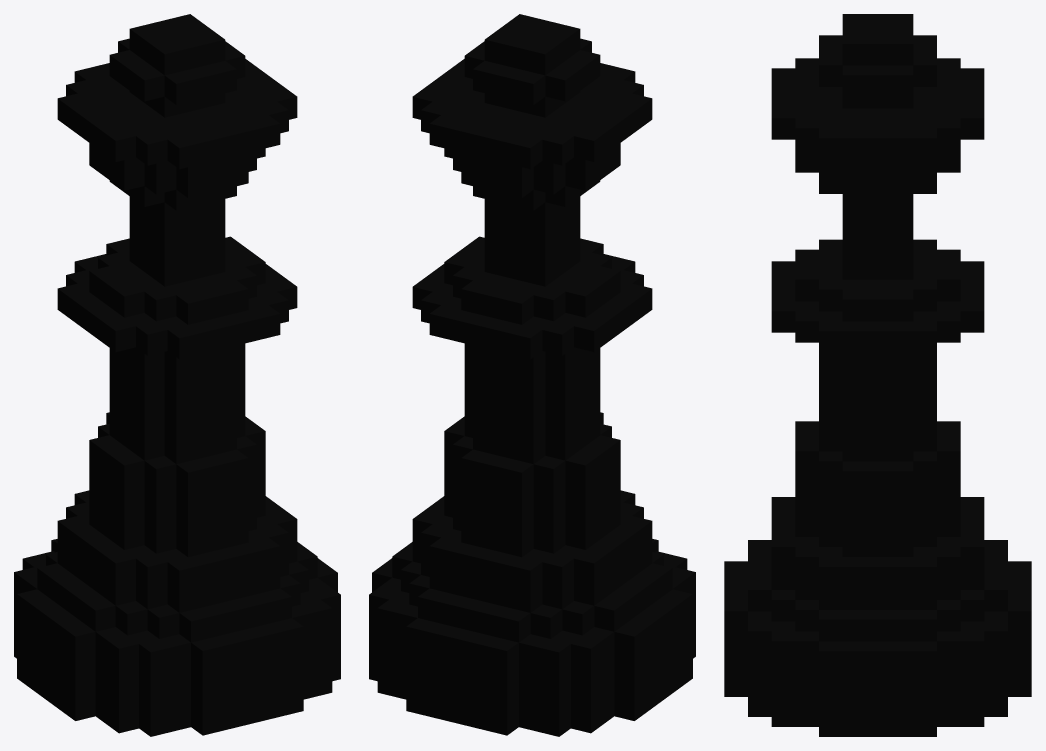
The model's file is PlayerBlack.obj.
3 renders of one model, left to right at view 1: azimuth 30°, elevation 25°; view 2: azimuth 150°, elevation 25°; view 3: azimuth 270°, elevation 25°, orthographic.
Parts seen in each view (by area): view 1: PlayerBlack; view 2: PlayerBlack; view 3: PlayerBlack.
Boxes of the visible parts, bbox=[...] form: PlayerBlack: bbox=[14, 14, 340, 736]; PlayerBlack: bbox=[369, 14, 695, 736]; PlayerBlack: bbox=[724, 14, 1031, 736].
Size of the model in its own units: 13 by 30 by 13.
Materials: 1 (1 with a texture image).
